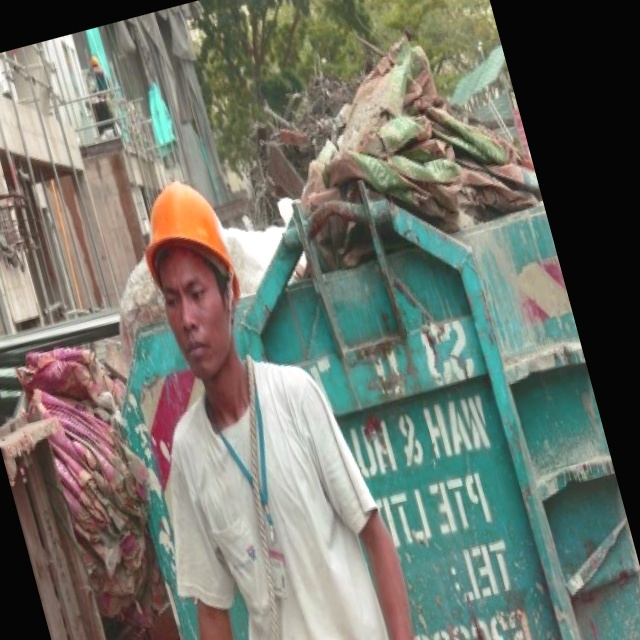Con_Casco: (127, 174, 256, 374)
Sin_Chaleco: (155, 347, 389, 640)
